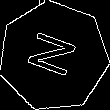N_E: (23, 29, 84, 84)
